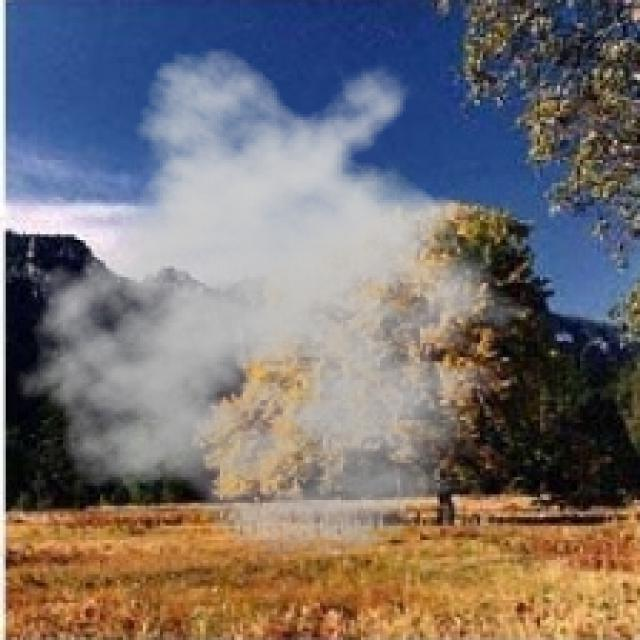Smoke: (2, 46, 554, 560)
